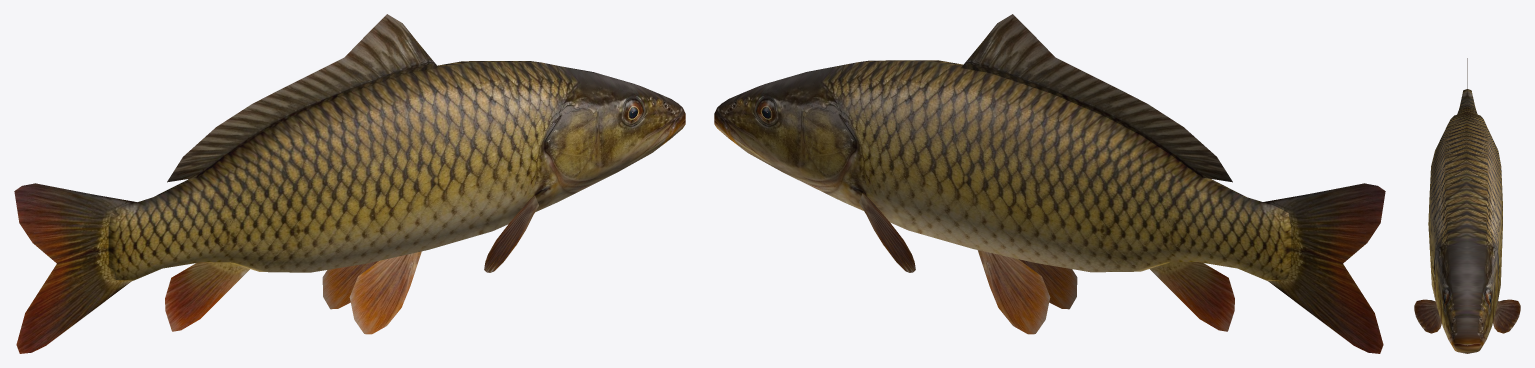
File: CommonCarp.glb
3 views of the same model, side by side, from view 1: azimuth 30°, elevation 25°; view 2: azimuth 150°, elevation 25°; view 3: azimuth 270°, elevation 25° (orthographic). The views are drawn at different scales.
Parts seen in each view (by area): view 1: CommonCarp; view 2: CommonCarp; view 3: CommonCarp.
Boxes of the visible parts, x1,y1,x2,y2 form: CommonCarp: (14,14,685,353); CommonCarp: (714,14,1385,353); CommonCarp: (1414,58,1520,353).
Bounding box in the file's own units: 2 × 0.8588 × 0.3425.
Materials: 1 (1 with a texture image).
